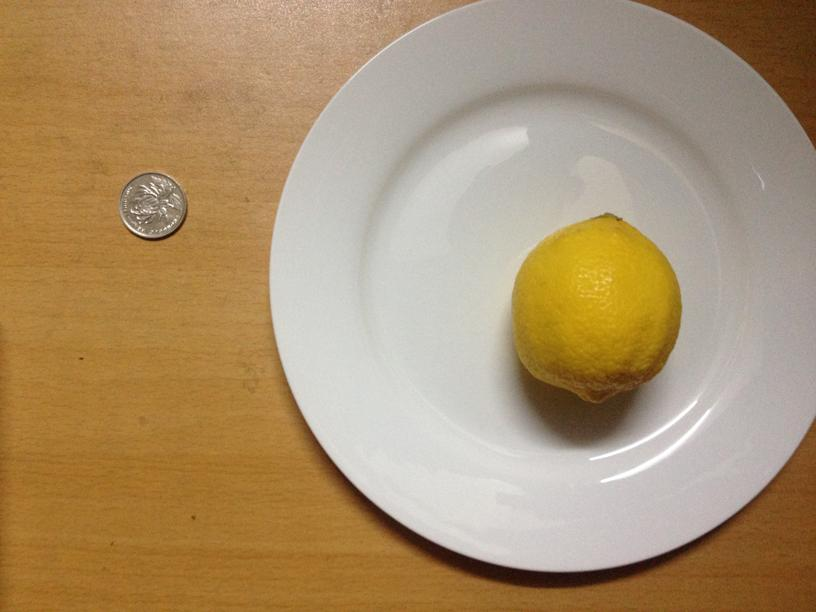coin: (118, 170, 186, 241)
lemon: (513, 208, 682, 394)
